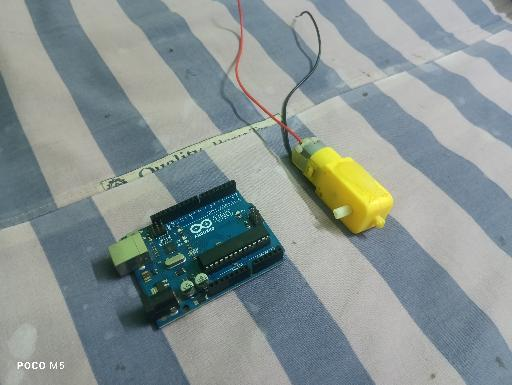Arduino: (107, 179, 287, 331)
Motor: (291, 136, 394, 236)
